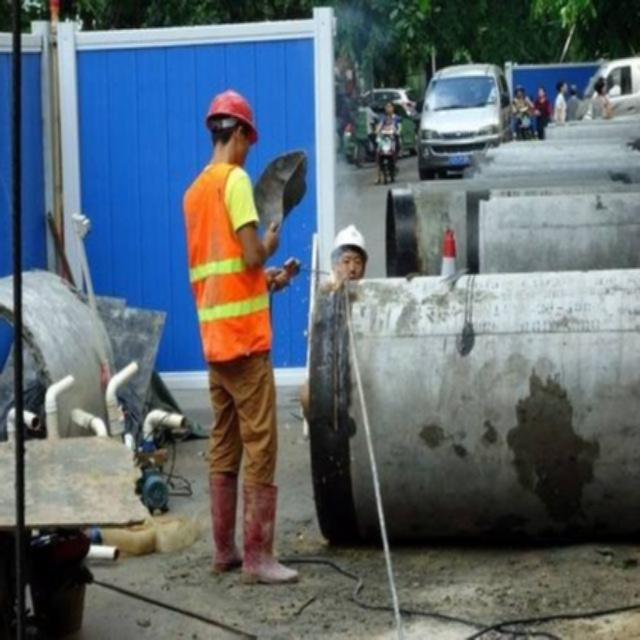Con_Chaleco: (183, 166, 272, 359)
